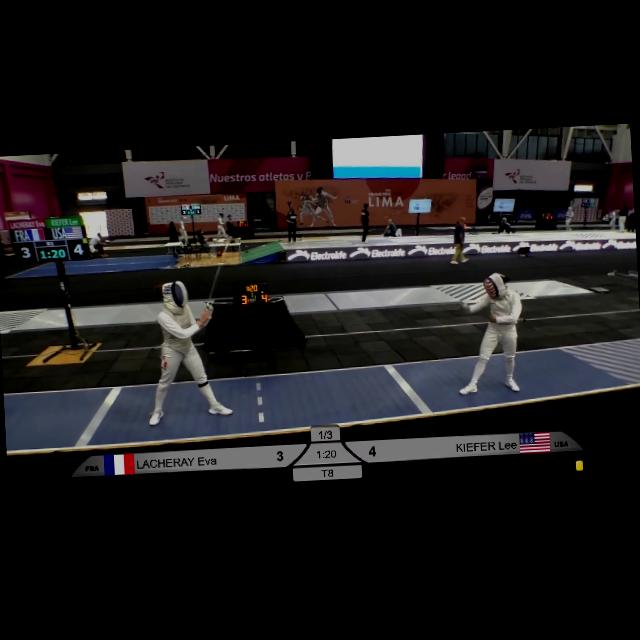blade: (202, 234, 237, 308)
